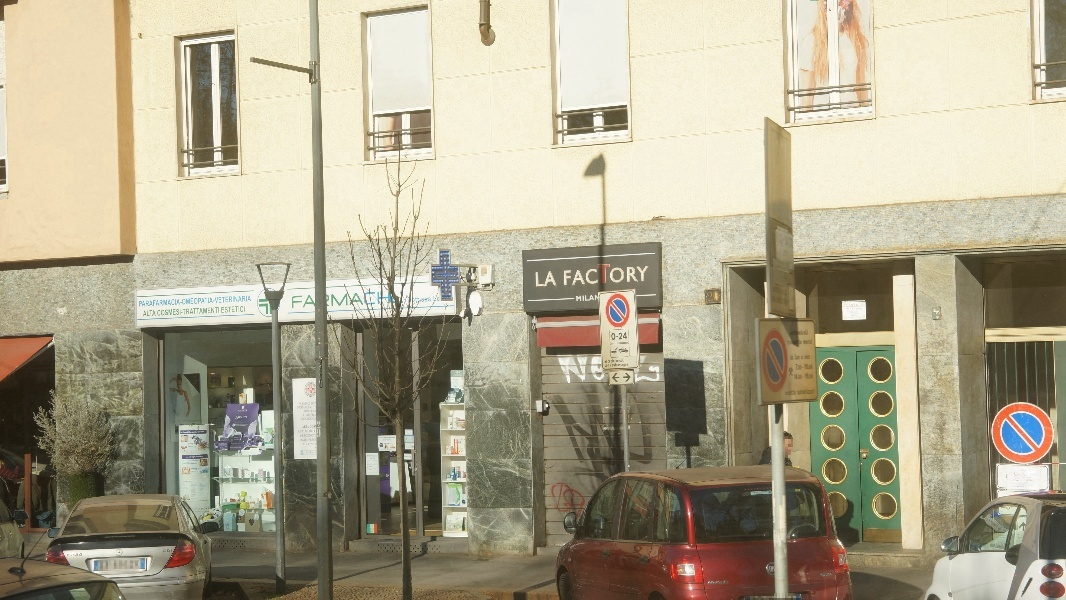text: (561, 355, 576, 384), (577, 355, 592, 384), (577, 262, 592, 286), (593, 262, 608, 286), (609, 262, 624, 286), (625, 262, 640, 286), (593, 355, 605, 384), (193, 481, 209, 500), (564, 262, 576, 286), (641, 262, 651, 286), (1011, 470, 1024, 488), (337, 291, 352, 306), (353, 291, 368, 306), (369, 291, 384, 306), (306, 383, 320, 396), (849, 304, 863, 317), (545, 272, 557, 287), (183, 481, 192, 500), (292, 294, 304, 308), (385, 291, 396, 306), (369, 455, 378, 473), (1025, 470, 1034, 488), (707, 291, 720, 302), (305, 294, 315, 308), (327, 291, 336, 306), (536, 272, 544, 287), (369, 525, 384, 533), (145, 299, 160, 307), (161, 299, 176, 307), (193, 307, 208, 315), (217, 481, 224, 497), (801, 389, 816, 396), (577, 295, 592, 302), (225, 306, 240, 313), (193, 298, 208, 305), (225, 296, 240, 303), (161, 309, 176, 316), (773, 286, 784, 295), (773, 296, 784, 305), (786, 389, 800, 396), (612, 333, 624, 341), (209, 307, 220, 315), (557, 355, 560, 384), (417, 296, 431, 302), (434, 296, 448, 302), (801, 374, 814, 380), (453, 379, 464, 386), (241, 296, 252, 303), (769, 567, 784, 572), (788, 339, 800, 345), (801, 339, 813, 345), (145, 311, 157, 317), (801, 364, 813, 370), (183, 307, 192, 315), (265, 432, 272, 442), (182, 298, 192, 305), (611, 363, 624, 368), (753, 491, 769, 495), (215, 296, 224, 303), (449, 483, 464, 487), (708, 581, 720, 586), (791, 330, 800, 336), (791, 354, 800, 360), (801, 354, 810, 360), (406, 430, 416, 435), (193, 468, 205, 472), (456, 371, 464, 377), (801, 330, 809, 336), (753, 597, 768, 600), (721, 581, 730, 586), (593, 295, 599, 302), (409, 296, 416, 302), (193, 436, 203, 440), (406, 445, 416, 449), (619, 332, 624, 340), (139, 299, 144, 307), (163, 550, 176, 553), (451, 526, 464, 529), (183, 461, 192, 465), (305, 410, 317, 413), (305, 414, 317, 417), (305, 439, 317, 442), (794, 374, 800, 380), (385, 440, 392, 445), (209, 298, 214, 305), (193, 456, 204, 459), (305, 418, 316, 421), (309, 430, 320, 433), (933, 309, 944, 312), (72, 553, 80, 557), (456, 440, 464, 444), (792, 596, 800, 600), (616, 359, 624, 363), (177, 299, 181, 307), (193, 511, 208, 513), (310, 406, 320, 409), (795, 364, 800, 370), (201, 507, 208, 511), (193, 432, 207, 434), (193, 380, 200, 384), (241, 416, 248, 420), (241, 306, 245, 313), (386, 474, 400, 476), (306, 452, 320, 454), (177, 309, 181, 316), (823, 573, 832, 576), (311, 443, 320, 446), (317, 429, 320, 438), (187, 443, 192, 448), (193, 443, 198, 448), (193, 461, 199, 465), (241, 424, 249, 427), (404, 456, 416, 458), (609, 360, 615, 364), (312, 402, 320, 405), (305, 435, 317, 437), (317, 421, 320, 429), (938, 312, 944, 316), (625, 332, 628, 340), (180, 302, 192, 304), (181, 432, 192, 434), (229, 443, 240, 445), (181, 312, 192, 314), (769, 597, 776, 600), (937, 316, 944, 319), (157, 309, 160, 316), (230, 447, 240, 449), (241, 510, 245, 515), (385, 437, 395, 439), (625, 363, 629, 368), (310, 426, 320, 428), (234, 437, 240, 440), (266, 445, 272, 448), (367, 455, 368, 473), (785, 286, 787, 295), (785, 296, 787, 305), (305, 403, 311, 406), (187, 456, 192, 459), (235, 424, 240, 427), (299, 403, 304, 406), (305, 426, 310, 429), (305, 443, 310, 446), (193, 509, 200, 511), (241, 410, 248, 412), (233, 421, 240, 423), (241, 421, 248, 423), (222, 306, 224, 313), (617, 336, 624, 338), (847, 304, 848, 317), (237, 416, 240, 420), (266, 429, 272, 431), (605, 360, 608, 364), (298, 407, 304, 409), (300, 430, 304, 433), (305, 430, 309, 433), (213, 301, 224, 302), (257, 516, 259, 521), (379, 437, 384, 439), (305, 407, 310, 409), (605, 365, 608, 368), (301, 439, 304, 442), (81, 553, 83, 557), (190, 436, 192, 440), (190, 380, 192, 384), (408, 439, 416, 440), (273, 445, 275, 448), (302, 418, 304, 421), (301, 435, 304, 437), (255, 516, 256, 521), (239, 510, 240, 515), (383, 440, 384, 445), (315, 448, 320, 449), (191, 468, 192, 472), (241, 443, 243, 445), (268, 443, 272, 444), (609, 365, 610, 368), (303, 426, 304, 429), (191, 509, 192, 511), (239, 410, 240, 412), (273, 429, 274, 431)
